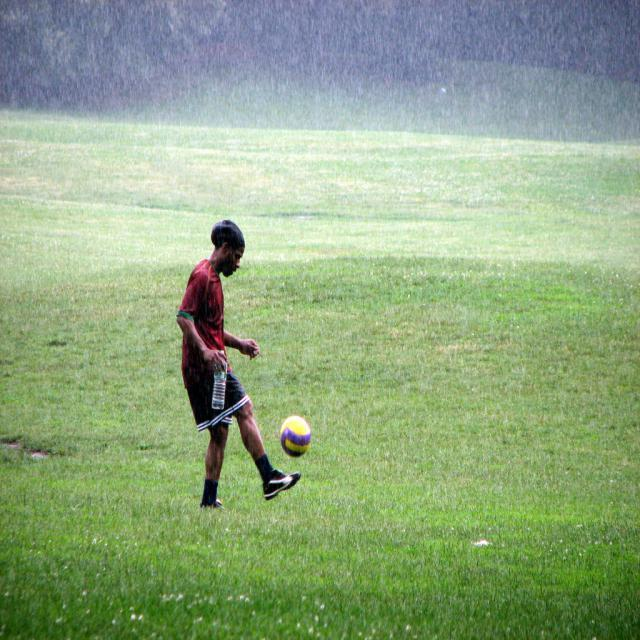ball: (278, 415, 310, 456)
